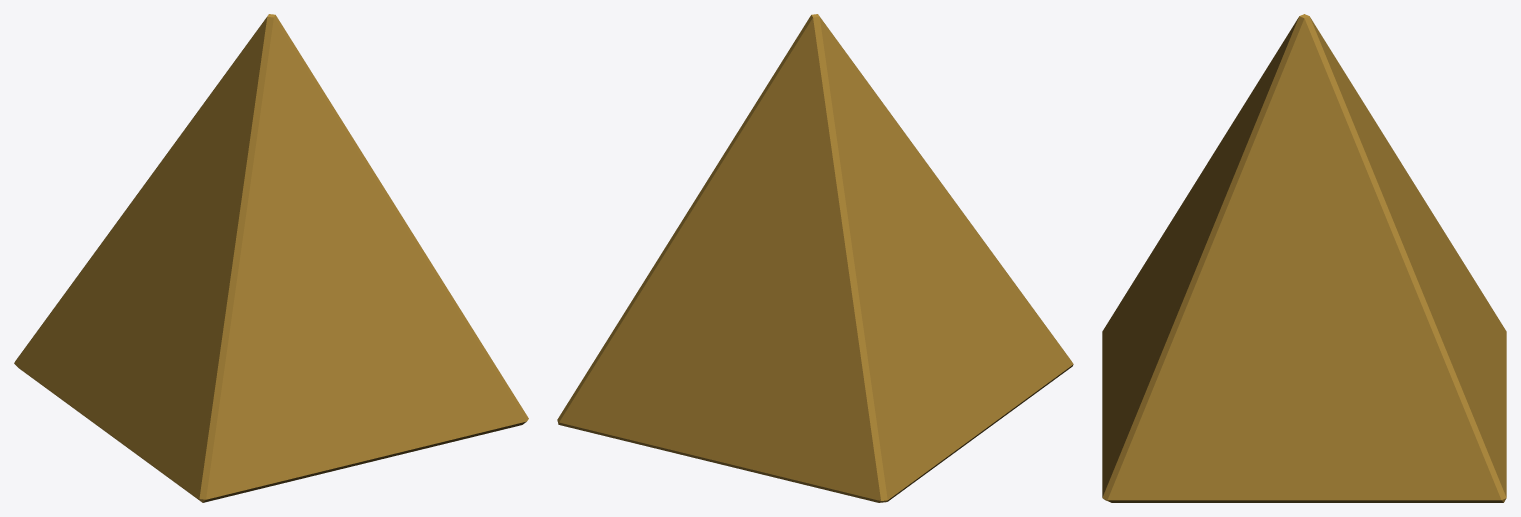
The model's file is obelisco_ponta.fbx.
3 renders of one model, left to right at view 1: azimuth 30°, elevation 25°; view 2: azimuth 150°, elevation 25°; view 3: azimuth 270°, elevation 25°, orthographic. The views are drawn at different scales.
Parts seen in each view (by area): view 1: obelisco_ponta; view 2: obelisco_ponta; view 3: obelisco_ponta.
Part boxes in pixels (box(x1,y1,x2,y2)): obelisco_ponta: box(14, 14, 528, 502); obelisco_ponta: box(557, 14, 1073, 502); obelisco_ponta: box(1102, 14, 1506, 502).
Bounding box in the file's own units: 4.26 × 4.68 × 4.26.
